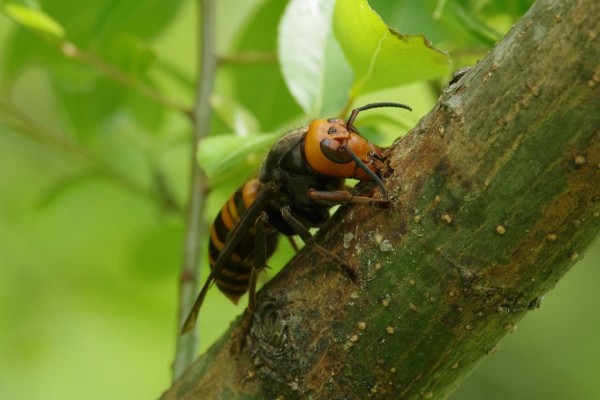asian_giant_hornet: (178, 96, 423, 336)
